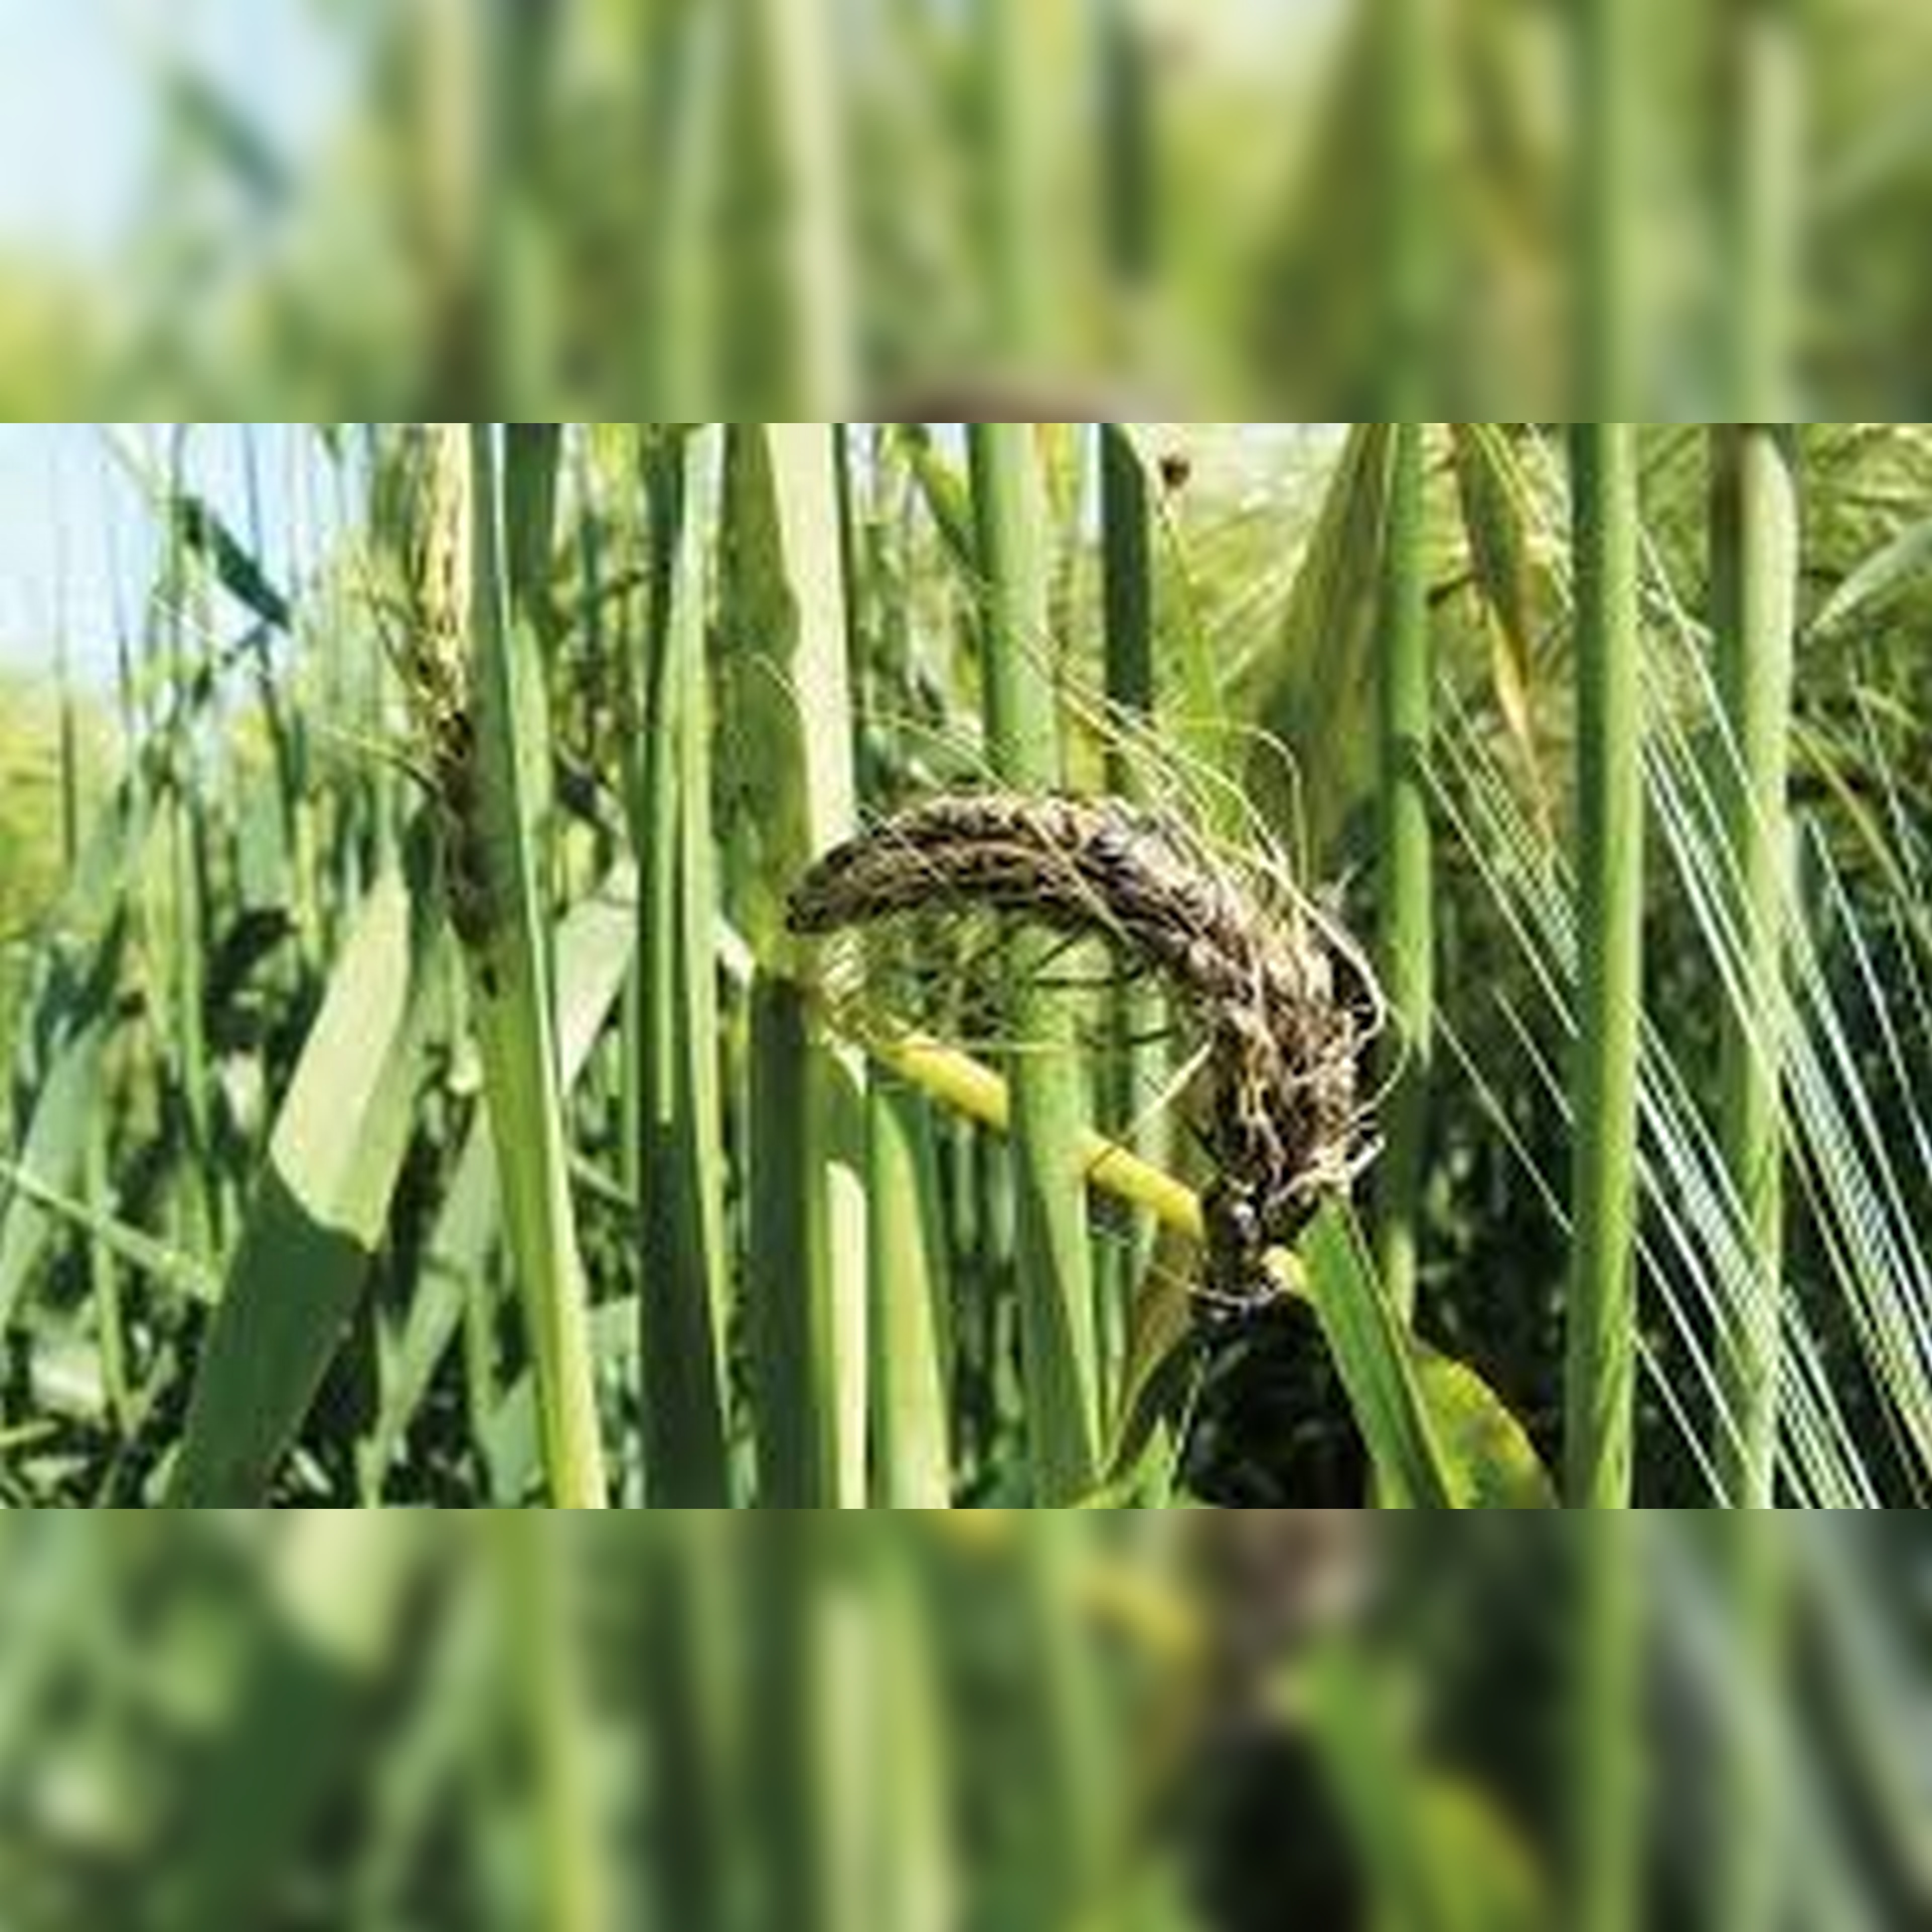Wheat Loose Smut: (768, 761, 1391, 1322)
